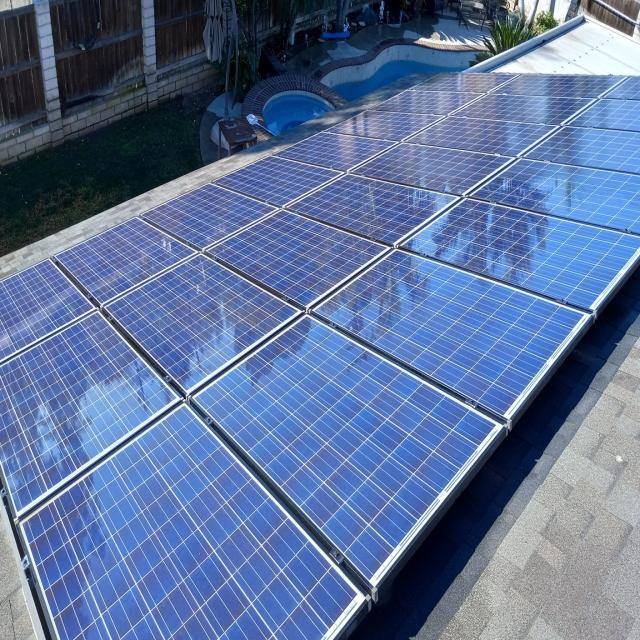clean-solar-panel: (21, 404, 365, 638)
